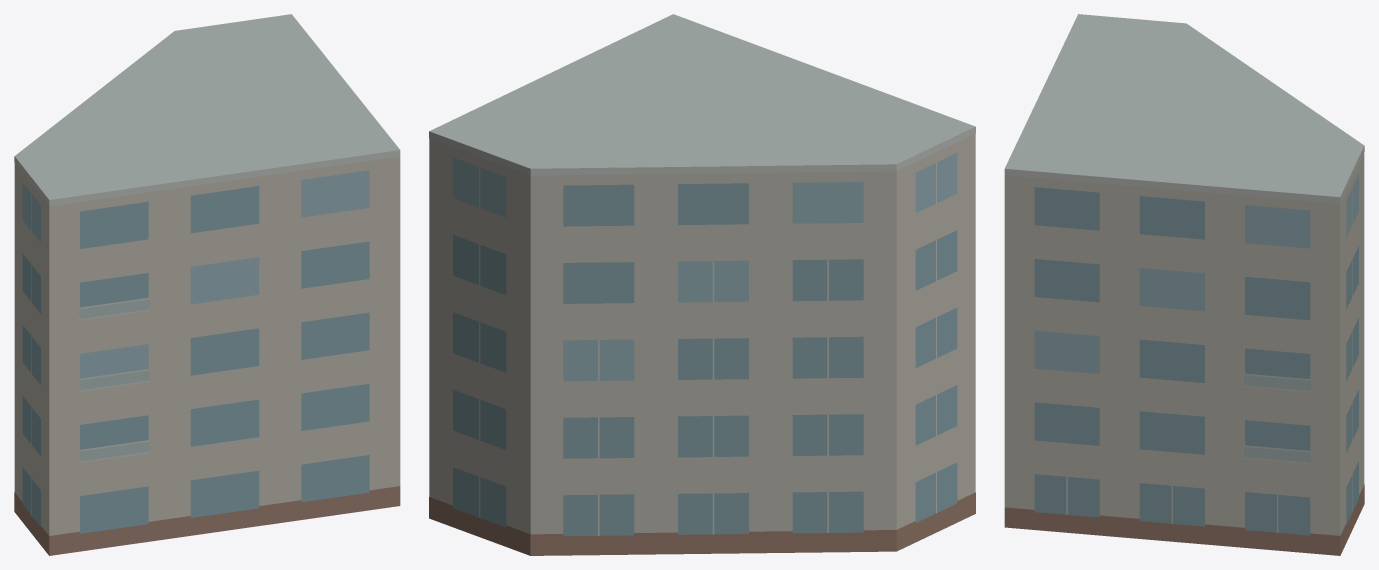
The model's file is survey-upis-33000328.glb.
3 views of the same model, side by side, from view 1: azimuth 30°, elevation 25°; view 2: azimuth 150°, elevation 25°; view 3: azimuth 270°, elevation 25° (orthographic). The views are drawn at different scales.
Visible parts, largest first — view 1: survey-upis-33000328.tmp; view 2: survey-upis-33000328.tmp; view 3: survey-upis-33000328.tmp.
Part boxes in pixels (<box>): survey-upis-33000328.tmp: <box>14,14,400,555</box>; survey-upis-33000328.tmp: <box>429,14,975,555</box>; survey-upis-33000328.tmp: <box>1004,14,1364,555</box>.
Size of the model in its own units: 14.85 by 13.55 by 12.33.
